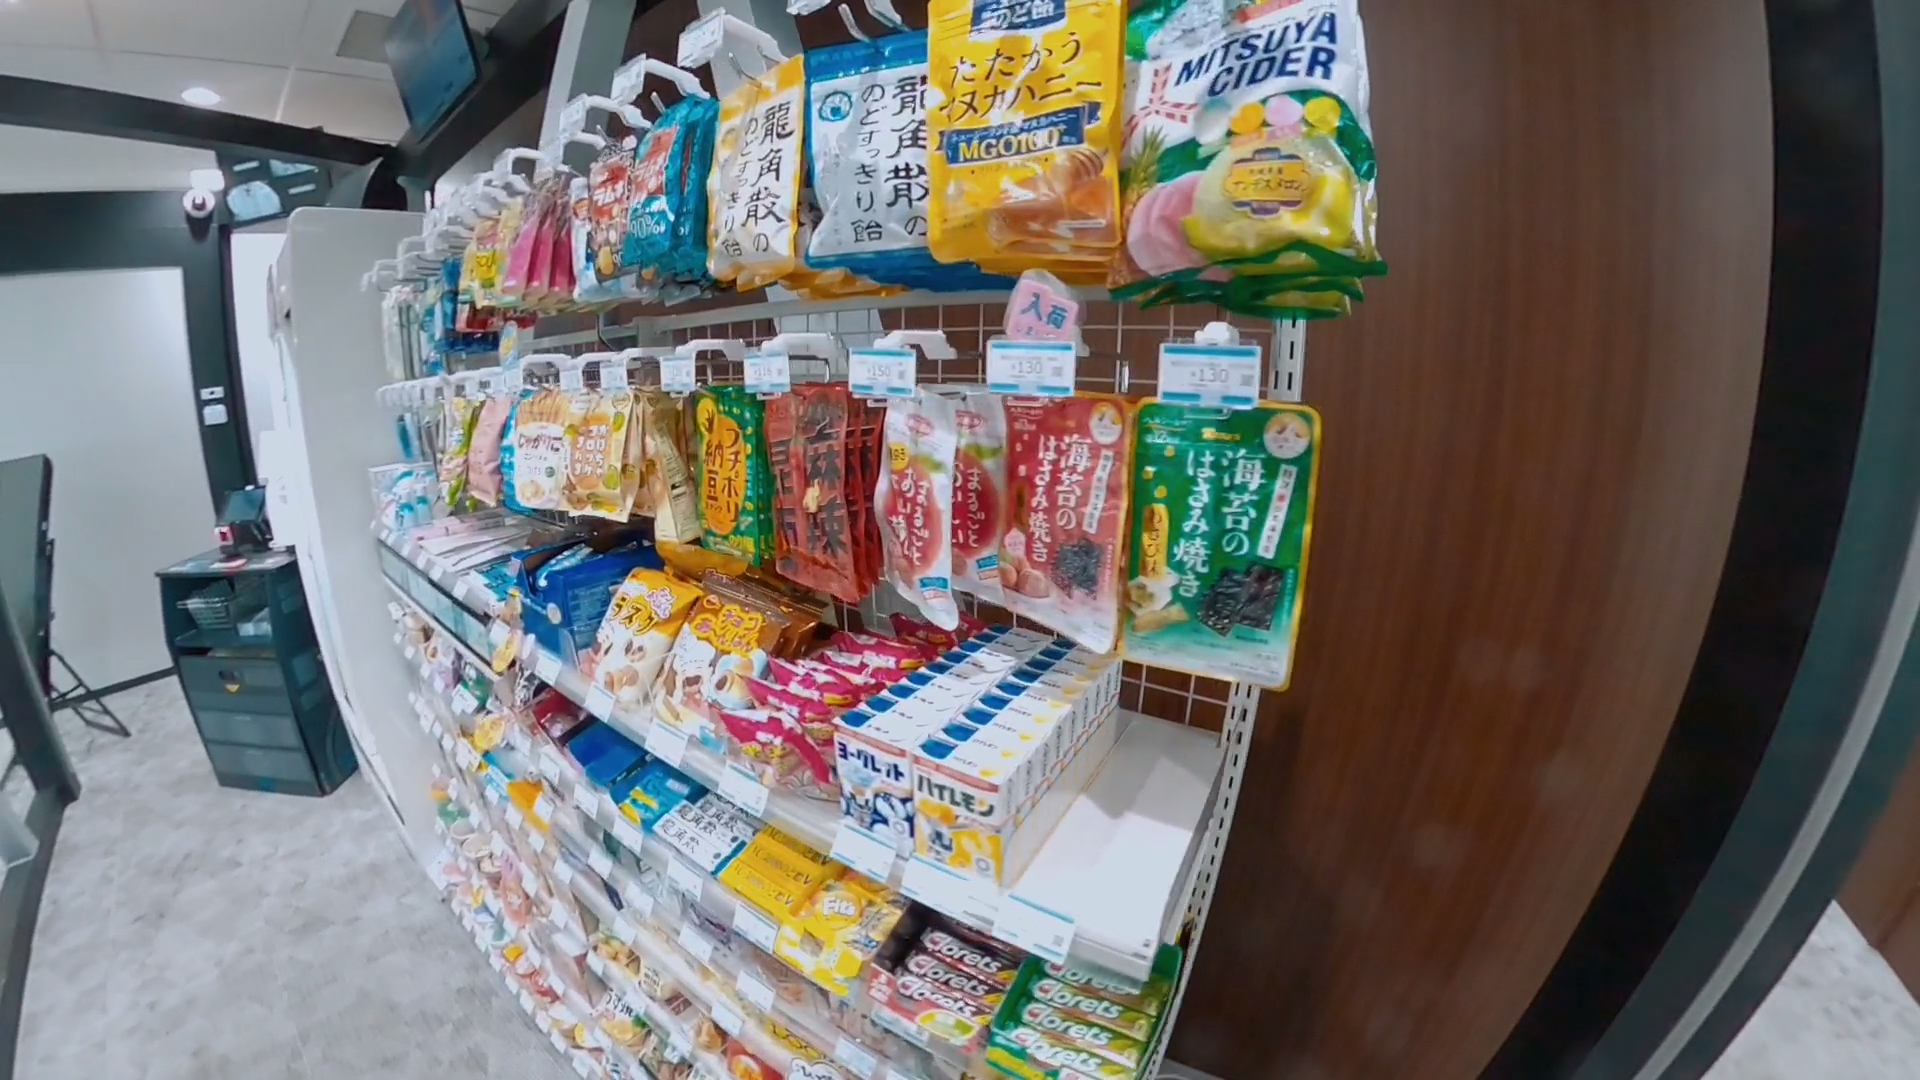NorinoHasamiyaki: (1121, 404, 1316, 687)
